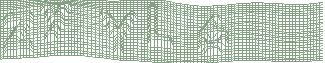6: (195, 12, 231, 58)
L: (144, 1, 175, 49)
Y: (97, 7, 137, 58)
Z: (1, 10, 37, 57)
y: (39, 1, 73, 46)
